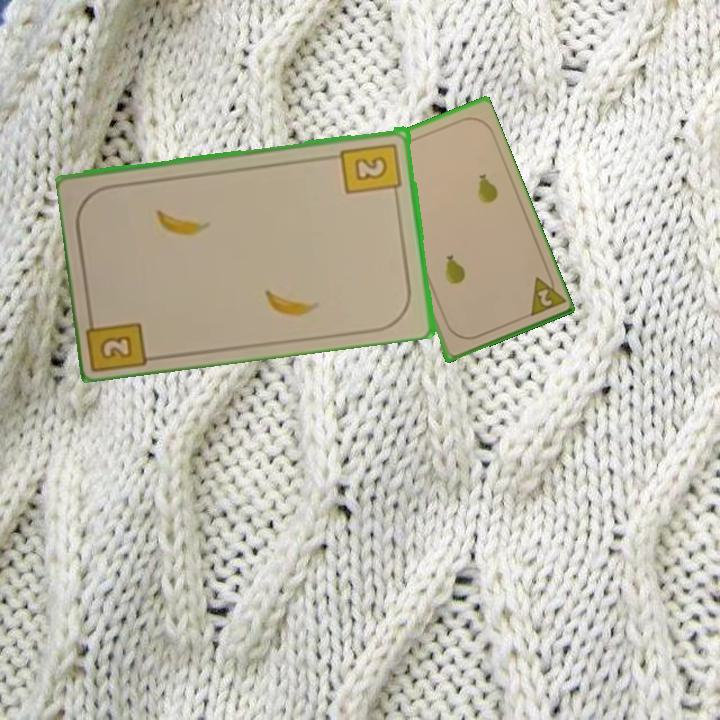2b: (85, 307, 153, 372), (338, 139, 404, 200)
2p: (524, 268, 566, 319)
